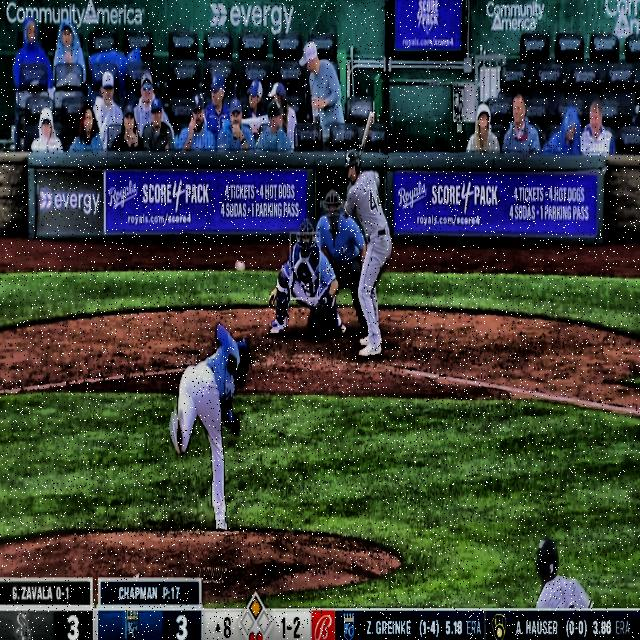baseball: (234, 259, 246, 273)
